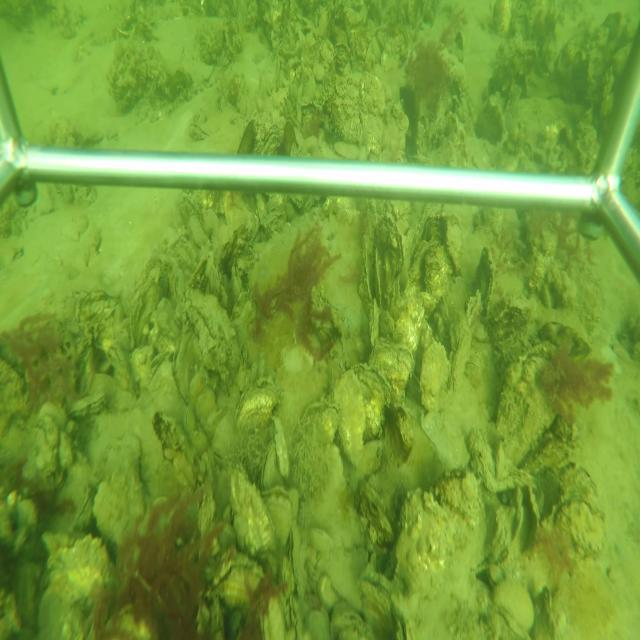Oyster-Closed: (35, 531, 117, 637), (497, 343, 565, 468), (331, 363, 388, 465), (230, 464, 276, 553), (366, 340, 415, 405), (374, 216, 404, 309), (171, 323, 203, 404), (235, 375, 281, 431), (535, 314, 590, 358), (448, 325, 472, 393), (289, 523, 307, 599), (477, 247, 496, 315), (66, 390, 107, 420), (68, 480, 92, 531), (274, 417, 290, 483), (260, 441, 278, 489), (367, 299, 382, 346)
Oyster-Indeterminate: (186, 288, 240, 392), (446, 214, 463, 275)
Oyster-Open: (209, 550, 268, 608), (509, 485, 544, 551), (359, 236, 384, 307)
